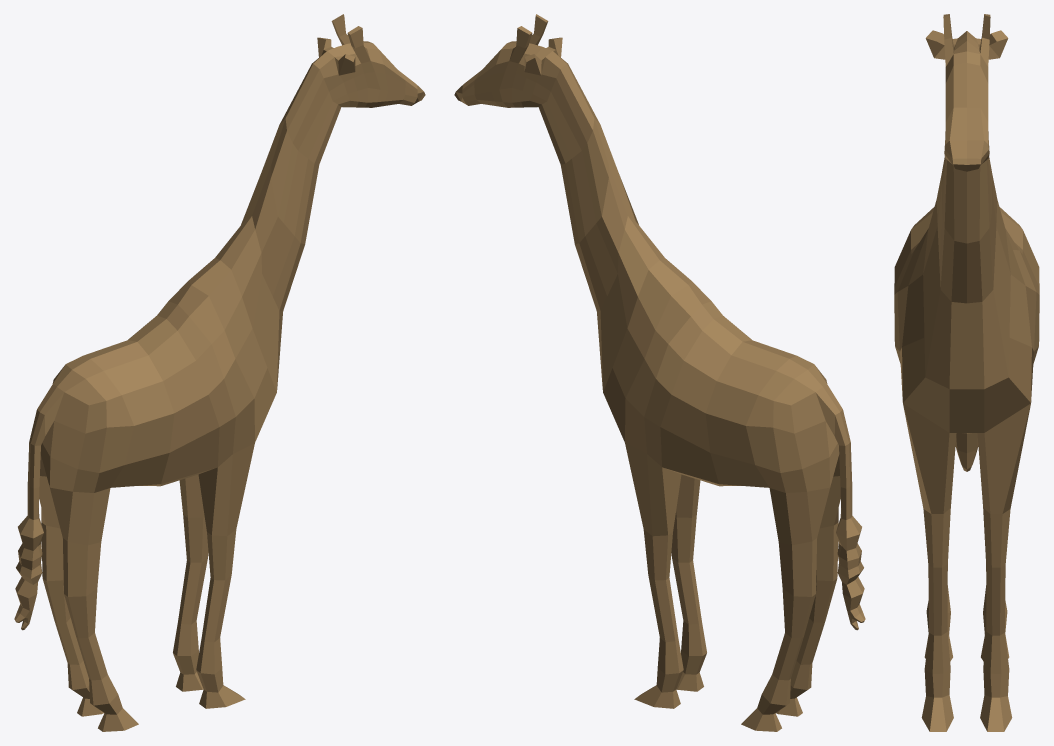
Rendered from lp_giraffe.fbx.
3 views of the same model, side by side, from view 1: azimuth 30°, elevation 25°; view 2: azimuth 150°, elevation 25°; view 3: azimuth 270°, elevation 25° (orthographic). The views are drawn at different scales.
Visible parts, largest first — view 1: Plane; view 2: Plane; view 3: Plane.
Boxes of the visible parts, x1,y1,x2,y2 form: Plane: [14, 14, 425, 731]; Plane: [454, 14, 865, 731]; Plane: [894, 14, 1039, 731].
Size of what is drawn, in the model's own units: 146 by 219 by 36.55.
